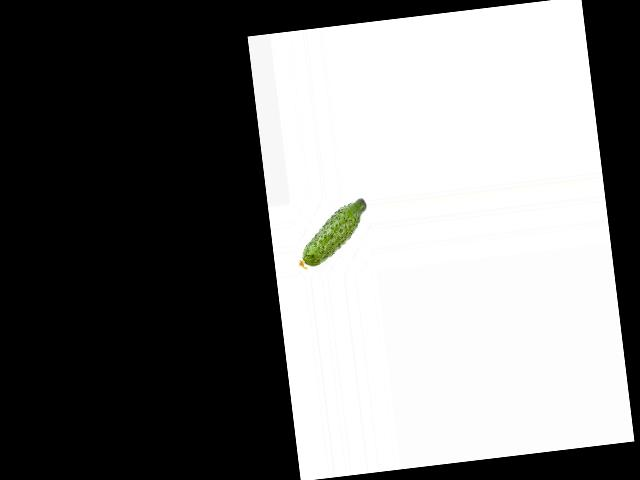cucumber: (291, 197, 372, 269)
